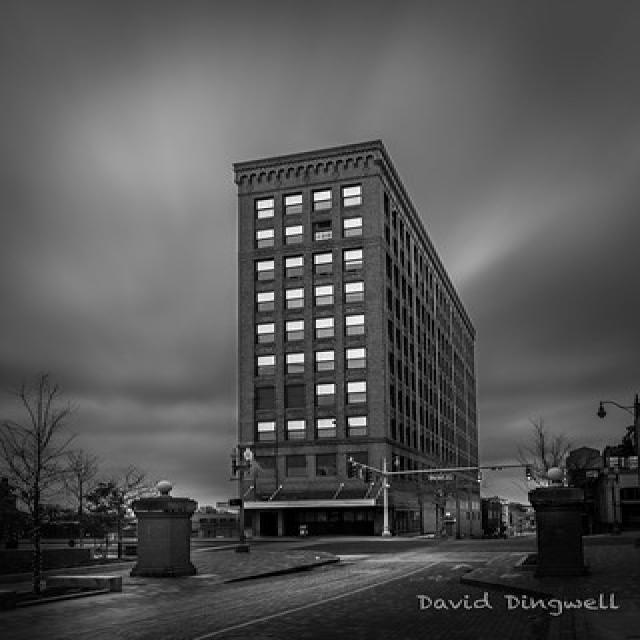building: (219, 133, 487, 557)
